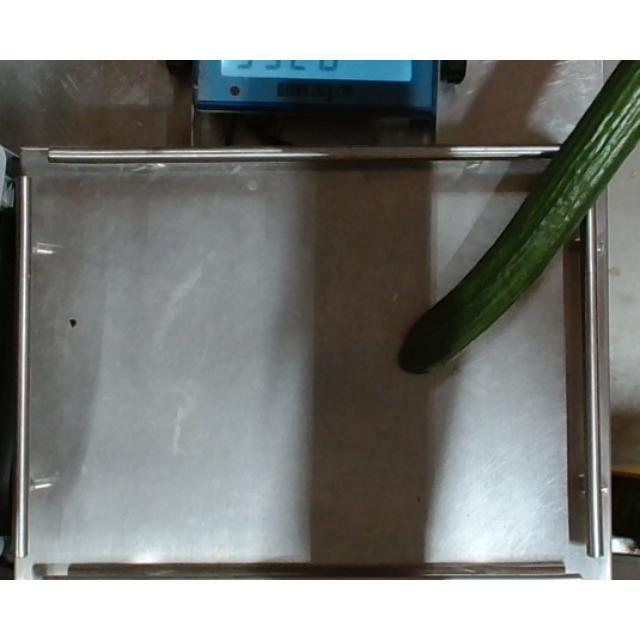cucumber: (394, 60, 638, 378)
